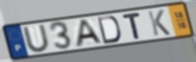3: (50, 20, 72, 52)
A: (74, 18, 105, 48)
D: (96, 15, 123, 45)
K: (146, 9, 173, 37)
T: (121, 11, 142, 40)
U: (21, 23, 53, 53)
